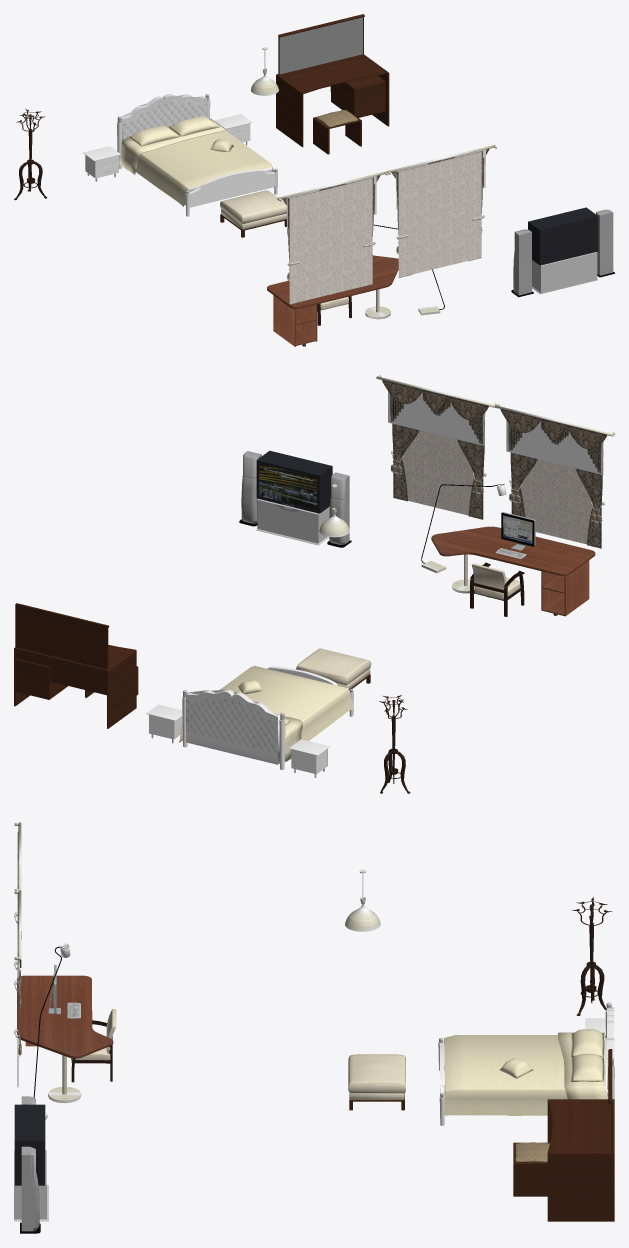
The model's file is Master bedroom.FBX.
The picture shows the model from 3 angles, top to bottom: view 1: azimuth 30°, elevation 25°; view 2: azimuth 150°, elevation 25°; view 3: azimuth 270°, elevation 25°; orthographic projection. The views are drawn at different scales.
Visible parts, largest first — view 1: Master bed, Dressing table, Curtain, Curtain02, Panasonic Brand TV, Computer Desk, Floor mats, Bedside cabinet02, Coat rack, Bedside cabinet, Chandelier; view 2: Master bed, Curtain02, Curtain, Dressing table, Panasonic Brand TV, Computer Desk, Floor mats, Computer Chairs, Bedside cabinet02, Apple Computer, Bedside cabinet, Coat rack (+1 smaller); view 3: Master bed, Dressing table, Computer Desk, Panasonic Brand TV, Floor mats, Coat rack, Computer Chairs, Curtain02, Chandelier.
Boxes of the visible parts, x1,y1,x2,y2 form: Master bed: (117,94,277,216); Dressing table: (276,14,389,154); Curtain: (277,171,387,304); Curtain02: (386,145,496,277); Panasonic Brand TV: (511,207,614,297); Computer Desk: (267,255,398,346); Floor mats: (220,190,286,237); Bedside cabinet02: (83,146,120,181); Coat rack: (14,109,47,200); Bedside cabinet: (214,114,252,145); Chandelier: (251,47,278,95); Master bed: (178,665,353,769); Curtain02: (376,375,496,519); Curtain: (494,404,614,548); Dressing table: (14,603,138,728); Panasonic Brand TV: (239,450,351,547); Computer Desk: (431,526,595,616); Floor mats: (296,648,371,690); Computer Chairs: (470,562,524,616); Bedside cabinet02: (289,739,330,777); Apple Computer: (501,512,535,550); Bedside cabinet: (146,704,182,743); Coat rack: (379,694,410,793); Master bed: (438,1002,614,1125); Dressing table: (513,1049,614,1221); Computer Desk: (17,975,113,1103); Panasonic Brand TV: (14,1096,48,1233); Floor mats: (348,1054,405,1110); Coat rack: (571,897,612,1015); Computer Chairs: (71,1009,116,1082); Curtain02: (14,890,21,1086); Chandelier: (345,869,380,931).
Bounding box in the file's own units: 704 × 322 × 766.
